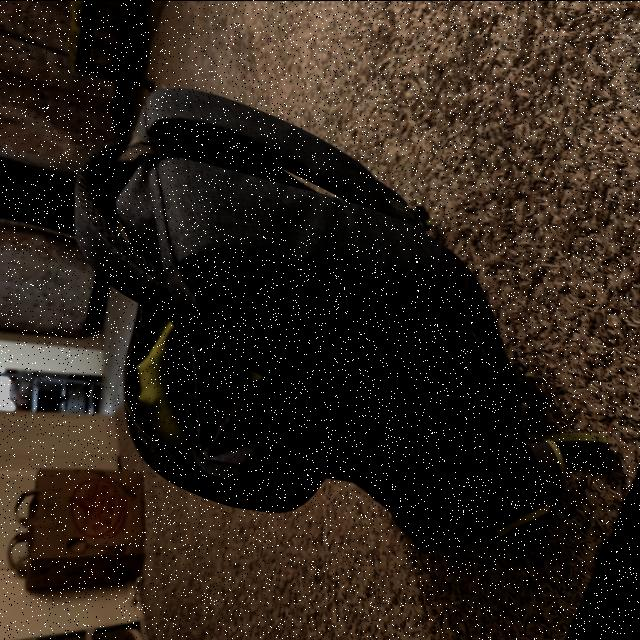bag: (83, 70, 505, 546)
